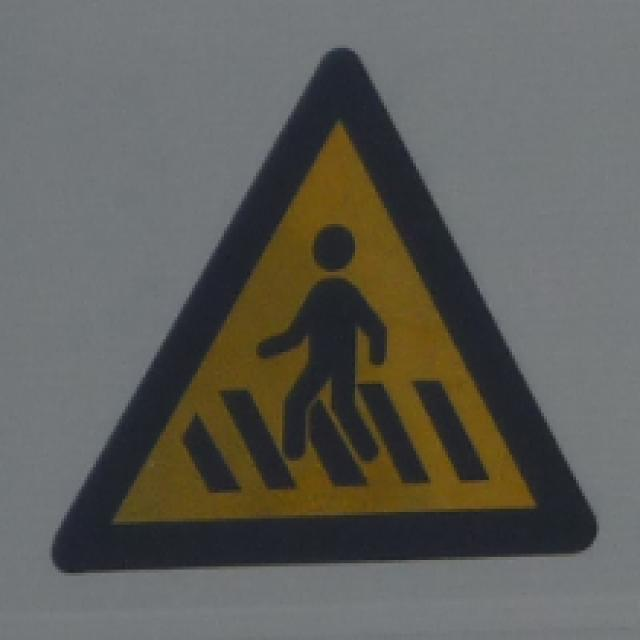Crossing: (46, 41, 610, 582)
